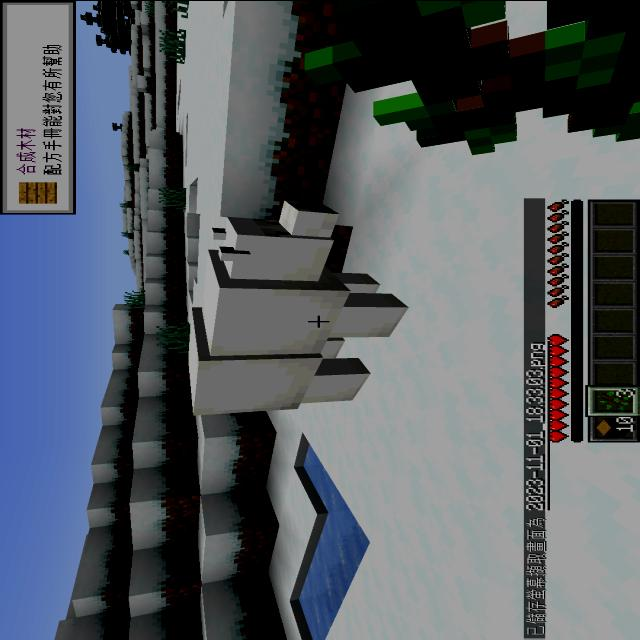Polar Bear: (151, 184, 435, 438)
